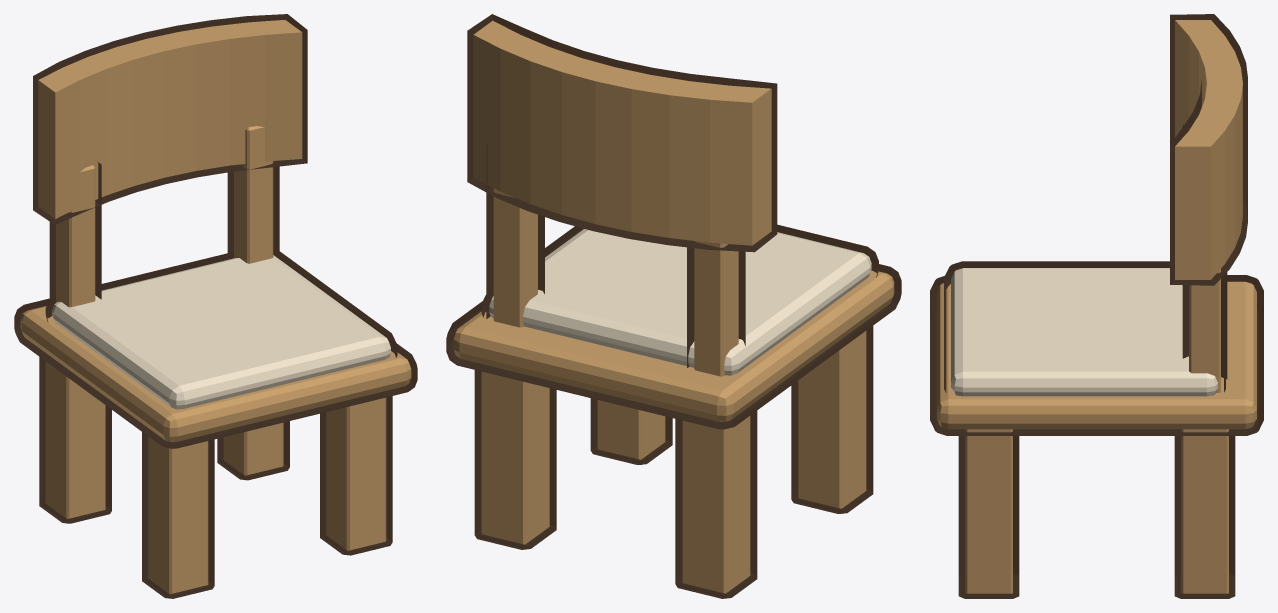
The model's file is atelier-seat.glb.
3 renders of one model, left to right at view 1: azimuth 30°, elevation 25°; view 2: azimuth 150°, elevation 25°; view 3: azimuth 270°, elevation 25°, orthographic. The views are drawn at different scales.
Visible parts, largest first — view 1: atelier-seat, atelier-seat-outline; view 2: atelier-seat, atelier-seat-outline; view 3: atelier-seat, atelier-seat-outline.
Part boxes in pixels (left/top/right/bottom): atelier-seat: left=20, top=20, right=411, bottom=594; atelier-seat-outline: left=14, top=14, right=417, bottom=598; atelier-seat: left=453, top=20, right=894, bottom=593; atelier-seat-outline: left=446, top=14, right=901, bottom=598; atelier-seat: left=937, top=20, right=1256, bottom=593; atelier-seat-outline: left=930, top=14, right=1263, bottom=598.
Size of the model in its own units: 0.7848 by 1.28 by 0.8348.
